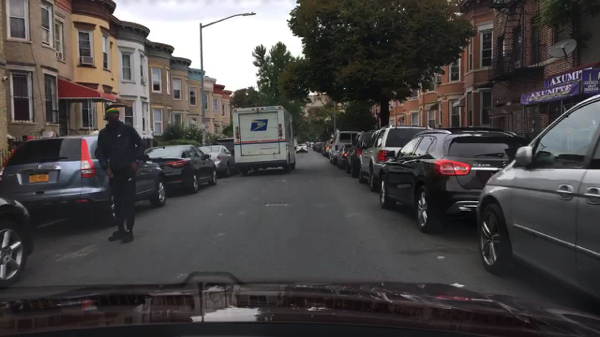car: (475, 92, 598, 310), (379, 126, 530, 233), (1, 135, 166, 227), (359, 125, 443, 193), (143, 142, 216, 195), (0, 195, 38, 286), (345, 129, 383, 177), (198, 146, 235, 179), (329, 132, 362, 164), (215, 138, 243, 175), (336, 142, 354, 169), (294, 143, 308, 153), (312, 141, 323, 151), (321, 141, 329, 154)
person: (94, 106, 146, 245)
truck: (229, 106, 295, 172)
